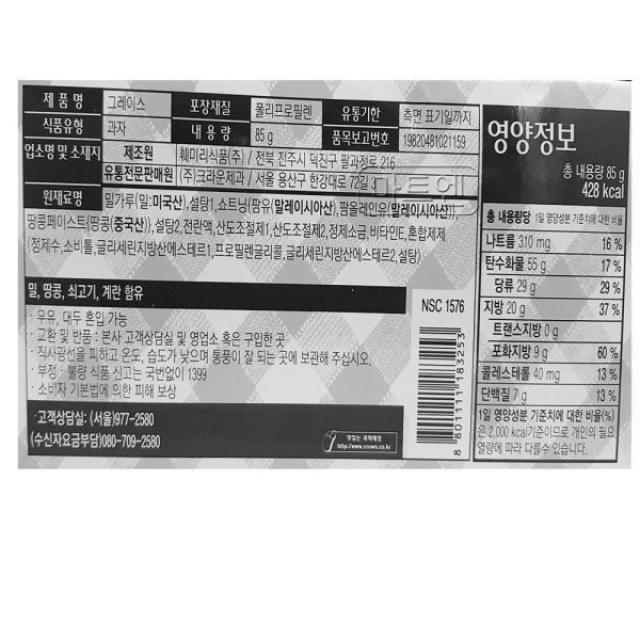Nutrition Label: (468, 99, 637, 468)
